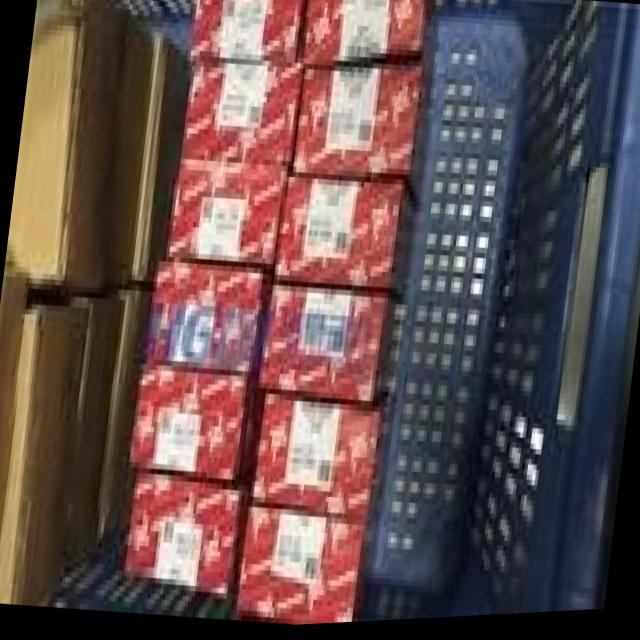box: (6, 0, 131, 307), (0, 298, 90, 607), (106, 31, 190, 289), (289, 69, 426, 211), (273, 180, 416, 304), (249, 396, 385, 524), (235, 504, 372, 628), (254, 293, 399, 410), (130, 365, 262, 488), (124, 473, 249, 601), (66, 290, 122, 572), (141, 263, 275, 379), (95, 286, 150, 549), (162, 160, 290, 272), (180, 62, 303, 169), (300, 0, 431, 71), (187, 0, 308, 71), (0, 255, 23, 526)
